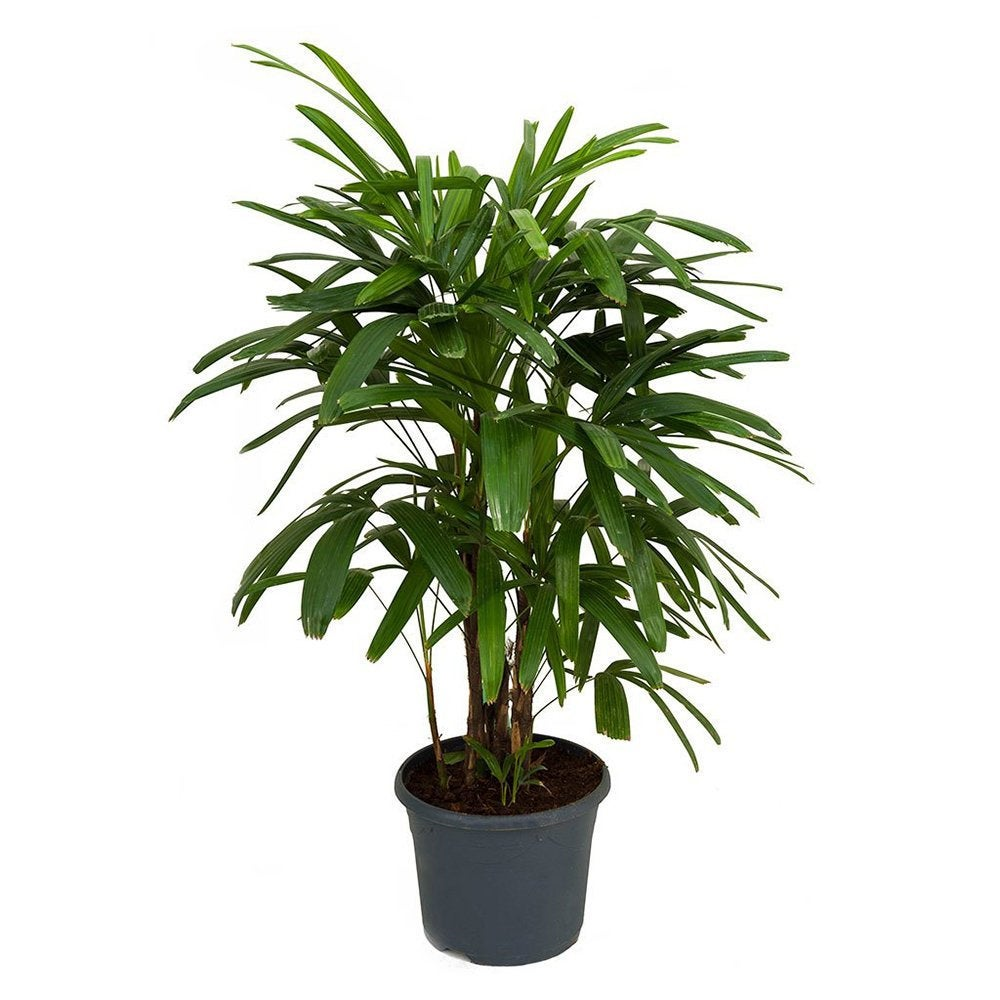plant: (166, 35, 811, 968)
